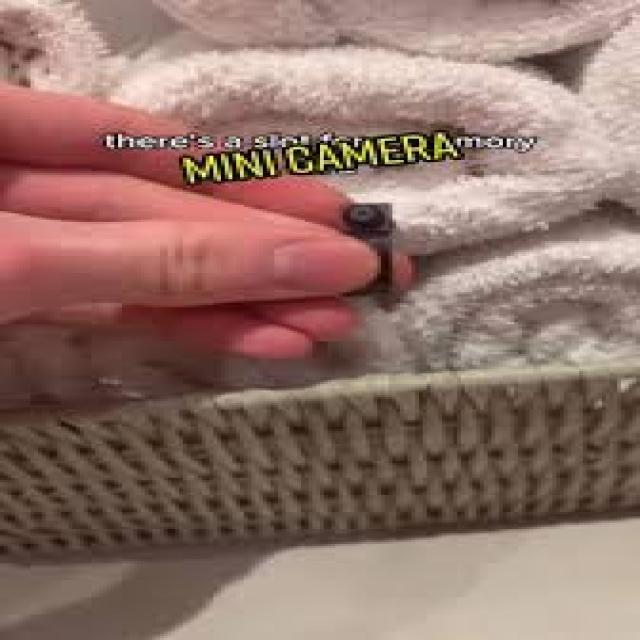hidden camera: (350, 206, 379, 220)
